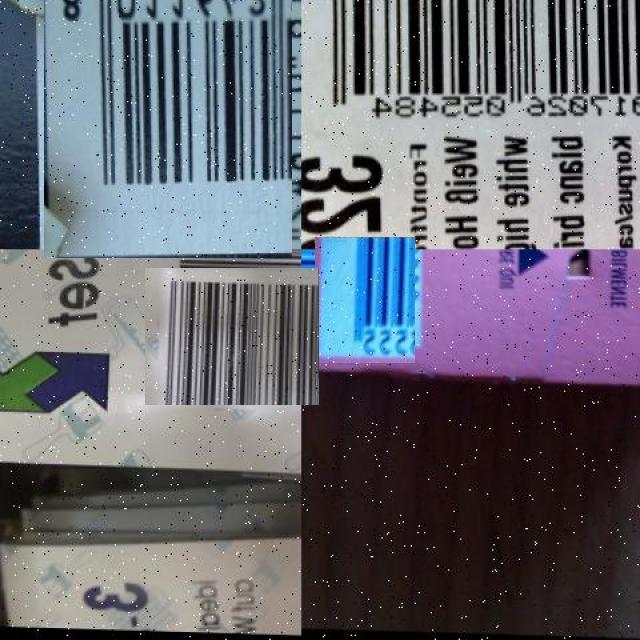Barcode: (40, 0, 298, 253), (301, 0, 640, 136), (154, 258, 310, 414), (308, 243, 421, 356)
